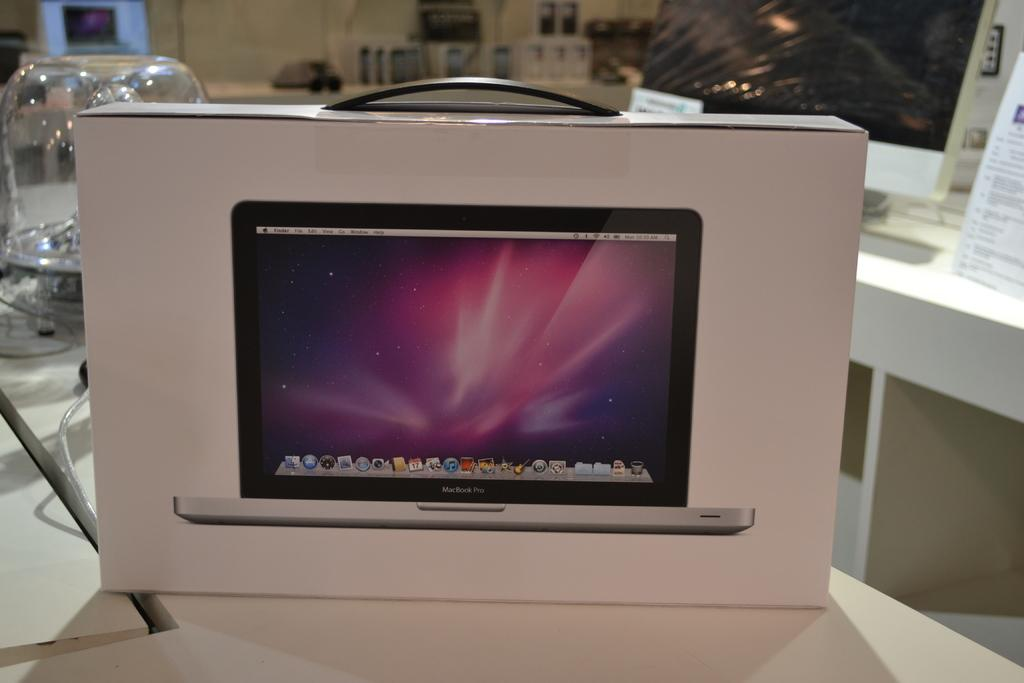Computer-monitor: (630, 0, 1007, 194)
